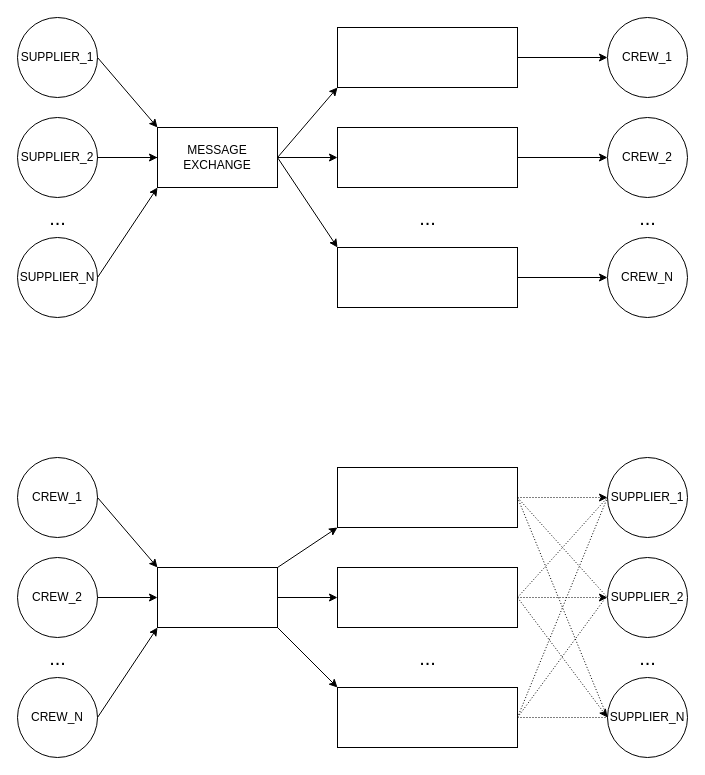
Image size: 705x775. Some labels were removed from this diagram. Each missing label, with the box of its shape:
CREW_1_QUEUE: (336, 26, 518, 88)
CREW_2_QUEUE: (336, 126, 518, 188)
CREW_N_QUEUE: (336, 246, 518, 308)
PRODUCT EXCHANGE: (156, 566, 278, 628)
PRODUCT_1_QUEUE: (336, 466, 518, 528)
PRODUCT_2_QUEUE: (336, 566, 518, 628)
PRODUCT_N_QUEUE: (336, 686, 518, 748)
